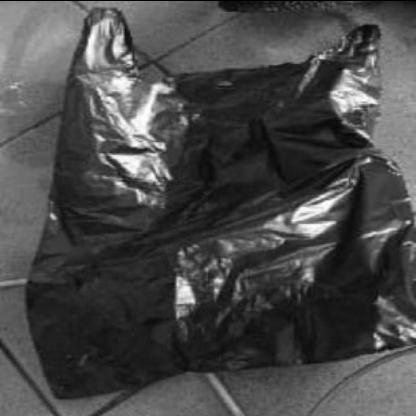objects: (19, 9, 416, 403)
